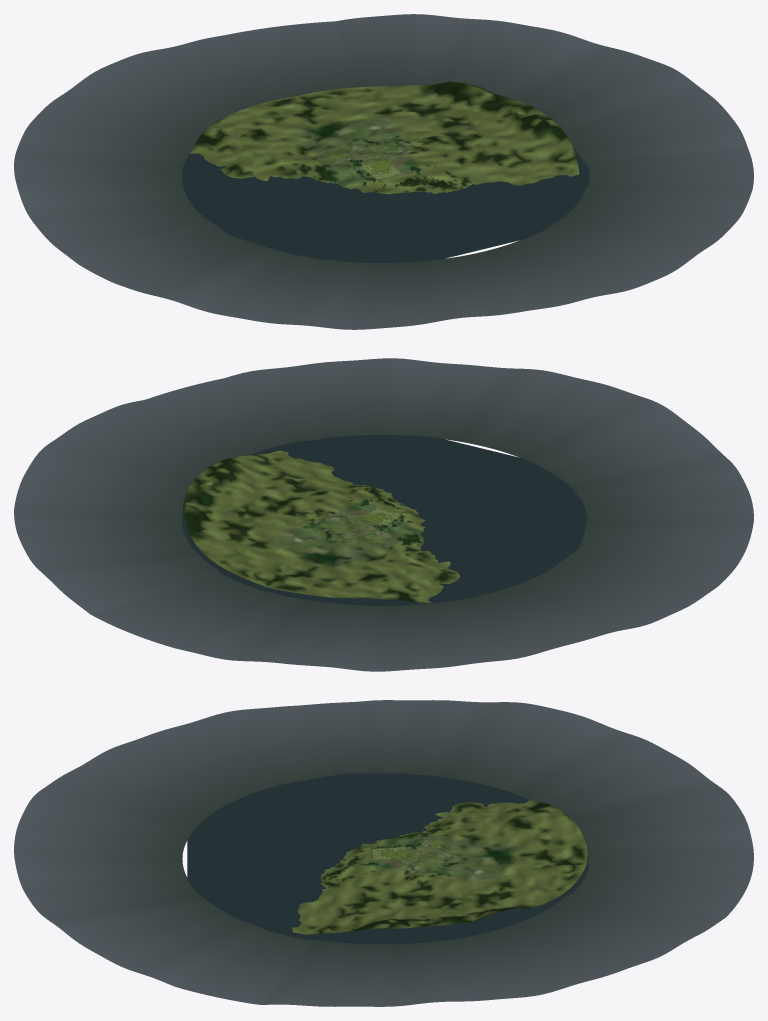
File: byneset_south_03.glb
3 renders of one model, top to bottom at view 1: azimuth 30°, elevation 25°; view 2: azimuth 150°, elevation 25°; view 3: azimuth 270°, elevation 25°, orthographic.
Visible parts, largest first — view 1: FAR_Horizon, SURF_Far, WATER_Sea, FAR_Trees; view 2: FAR_Horizon, SURF_Far, WATER_Sea, FAR_Trees; view 3: FAR_Horizon, WATER_Sea, SURF_Far, FAR_Trees.
Part boxes in pixels (box(x1,y1,x2,y2)): FAR_Horizon: box(14, 14, 753, 329); SURF_Far: box(190, 81, 579, 194); WATER_Sea: box(182, 147, 589, 262); FAR_Trees: box(285, 132, 471, 190); FAR_Horizon: box(14, 358, 753, 671); SURF_Far: box(183, 450, 459, 603); WATER_Sea: box(182, 435, 587, 605); FAR_Trees: box(290, 485, 422, 559); FAR_Horizon: box(14, 700, 753, 1006); WATER_Sea: box(187, 773, 588, 944); SURF_Far: box(292, 800, 587, 934); FAR_Trees: box(323, 825, 465, 887).
Bounding box in the file's own units: 11200 × 274 × 11200.
Materials: 32 (18 with a texture image).
